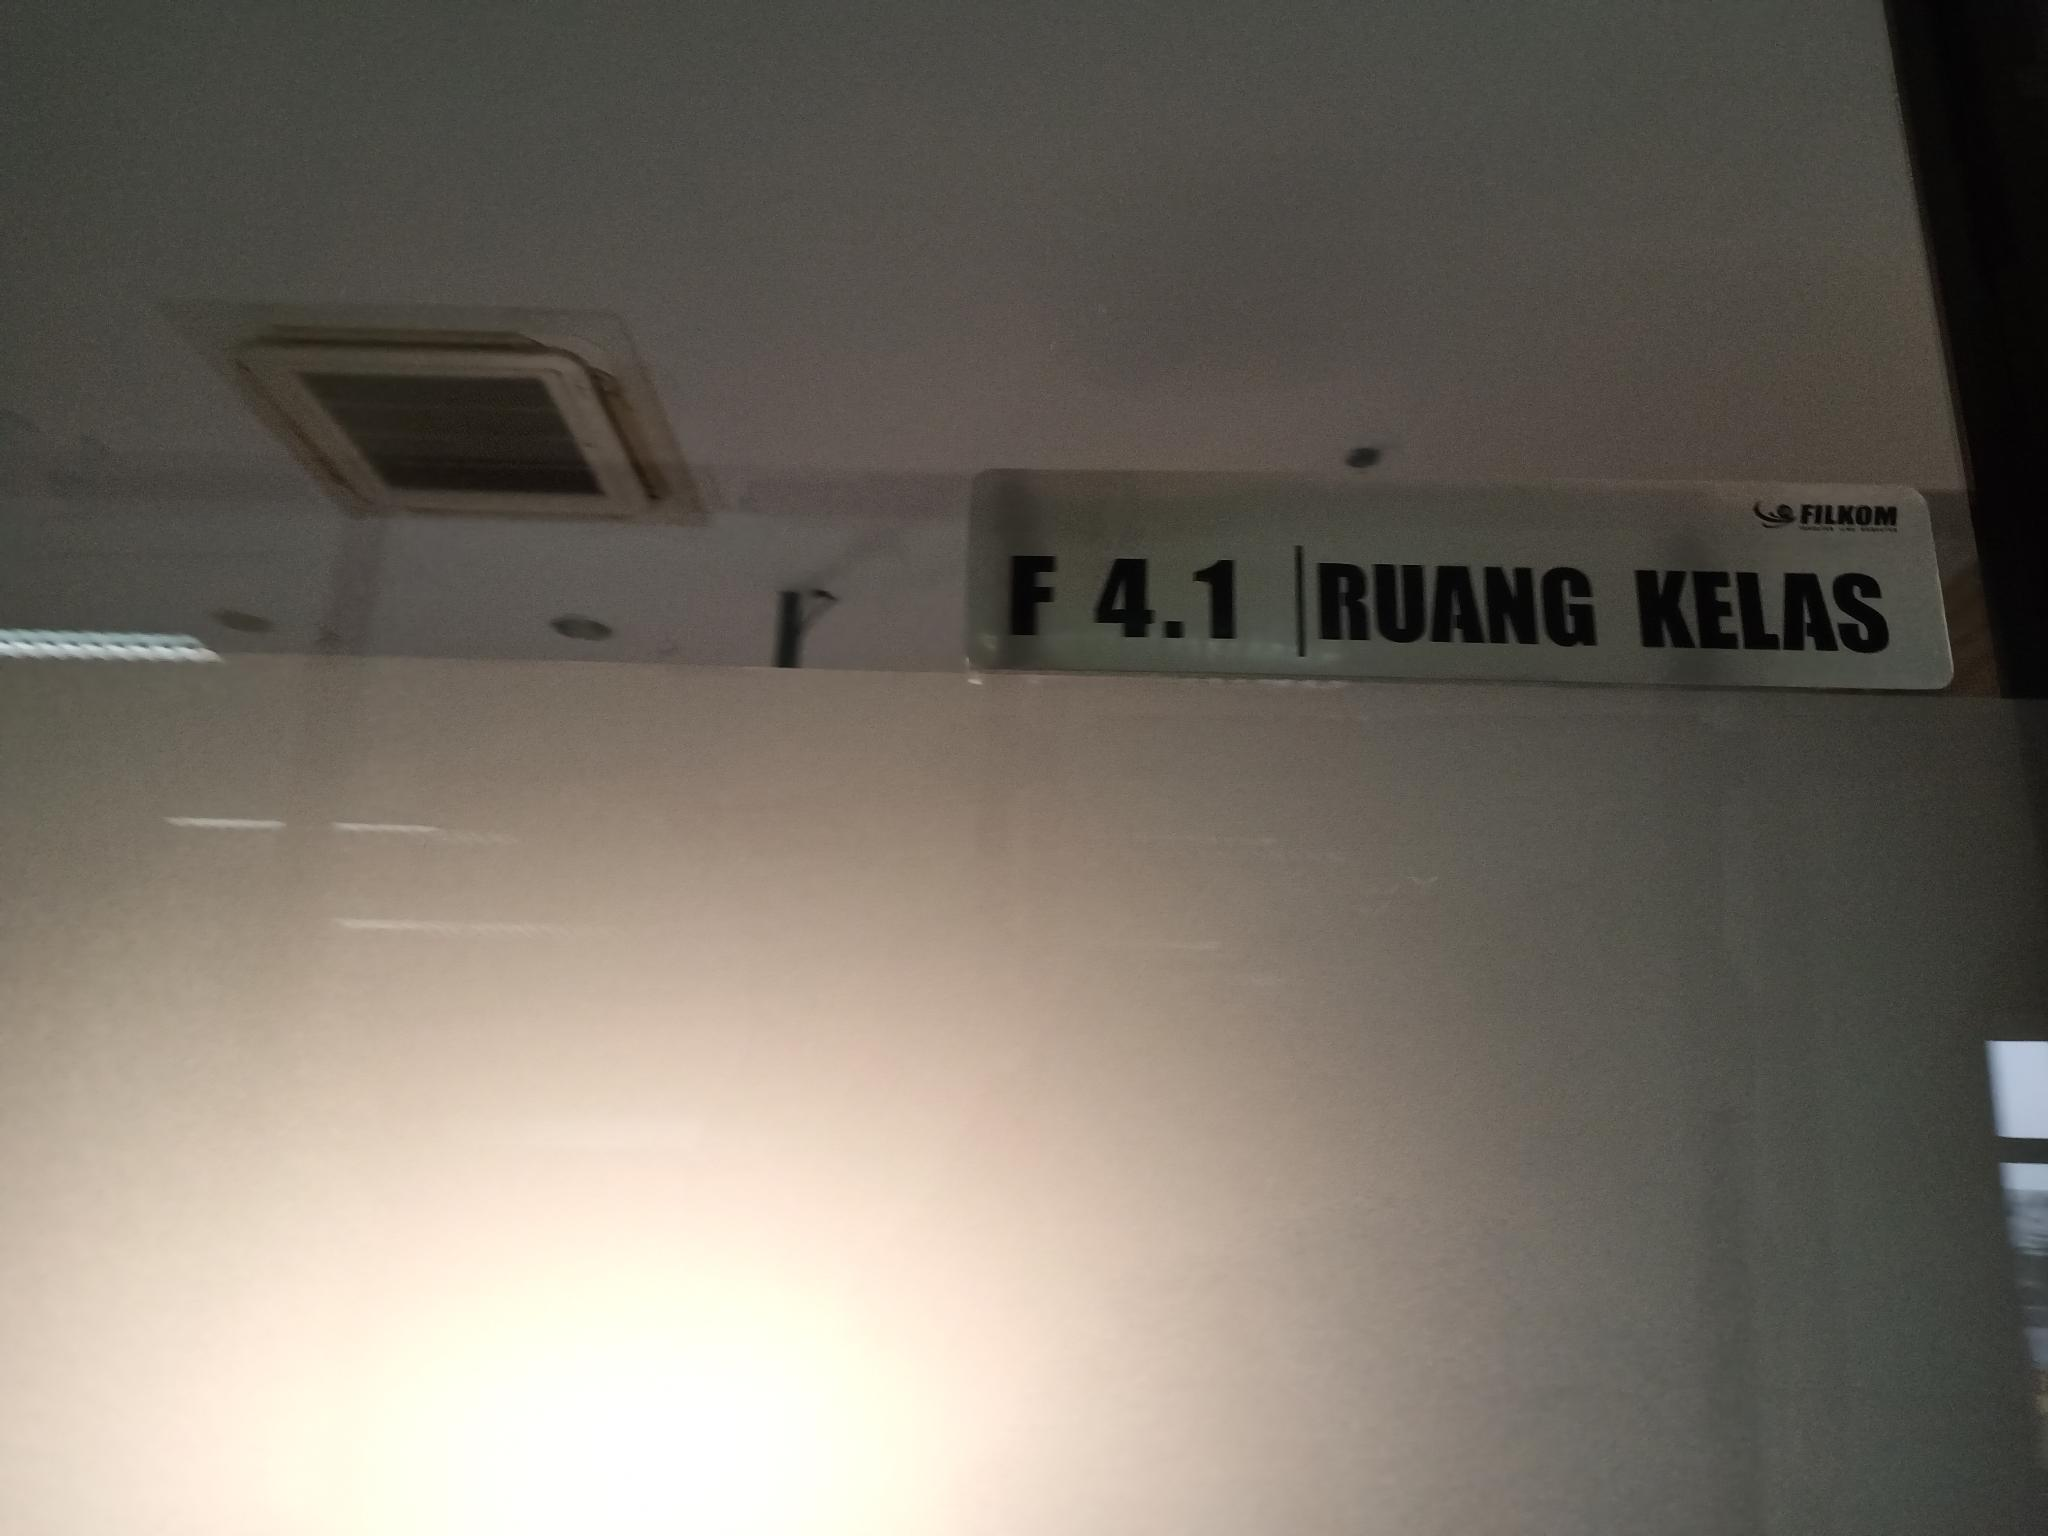plate: (968, 468, 1956, 691)
